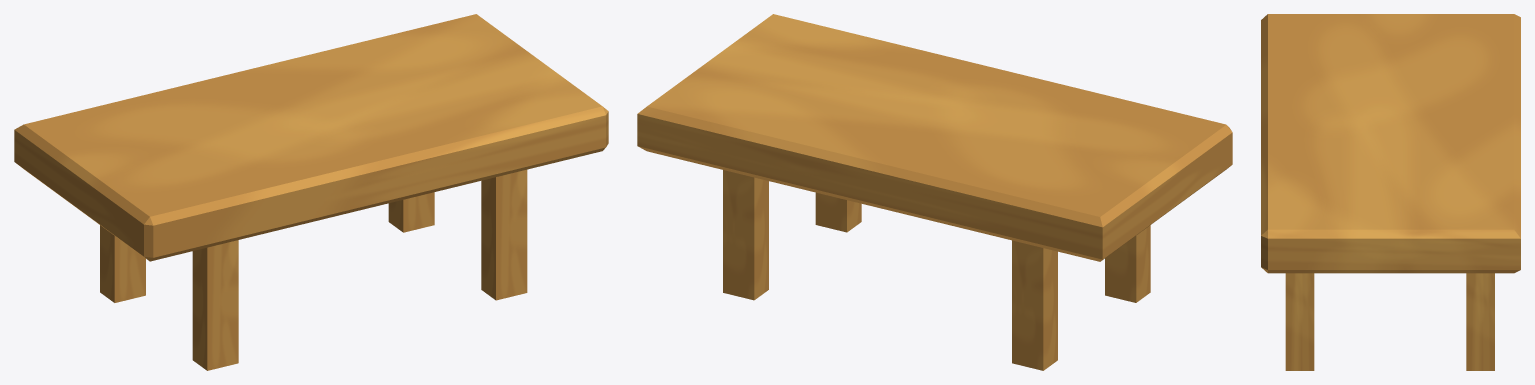
File: Table.fbx
3 views of the same model, side by side, from view 1: azimuth 30°, elevation 25°; view 2: azimuth 150°, elevation 25°; view 3: azimuth 270°, elevation 25° (orthographic). The views are drawn at different scales.
Parts seen in each view (by area): view 1: Cube; view 2: Cube; view 3: Cube.
Part boxes in pixels (left/top/right/bottom): Cube: left=14, top=14, right=608, bottom=370; Cube: left=637, top=14, right=1232, bottom=370; Cube: left=1261, top=14, right=1520, bottom=370.
Bounding box in the file's own units: 610 × 222 × 302.
1 material, 1 textured.
